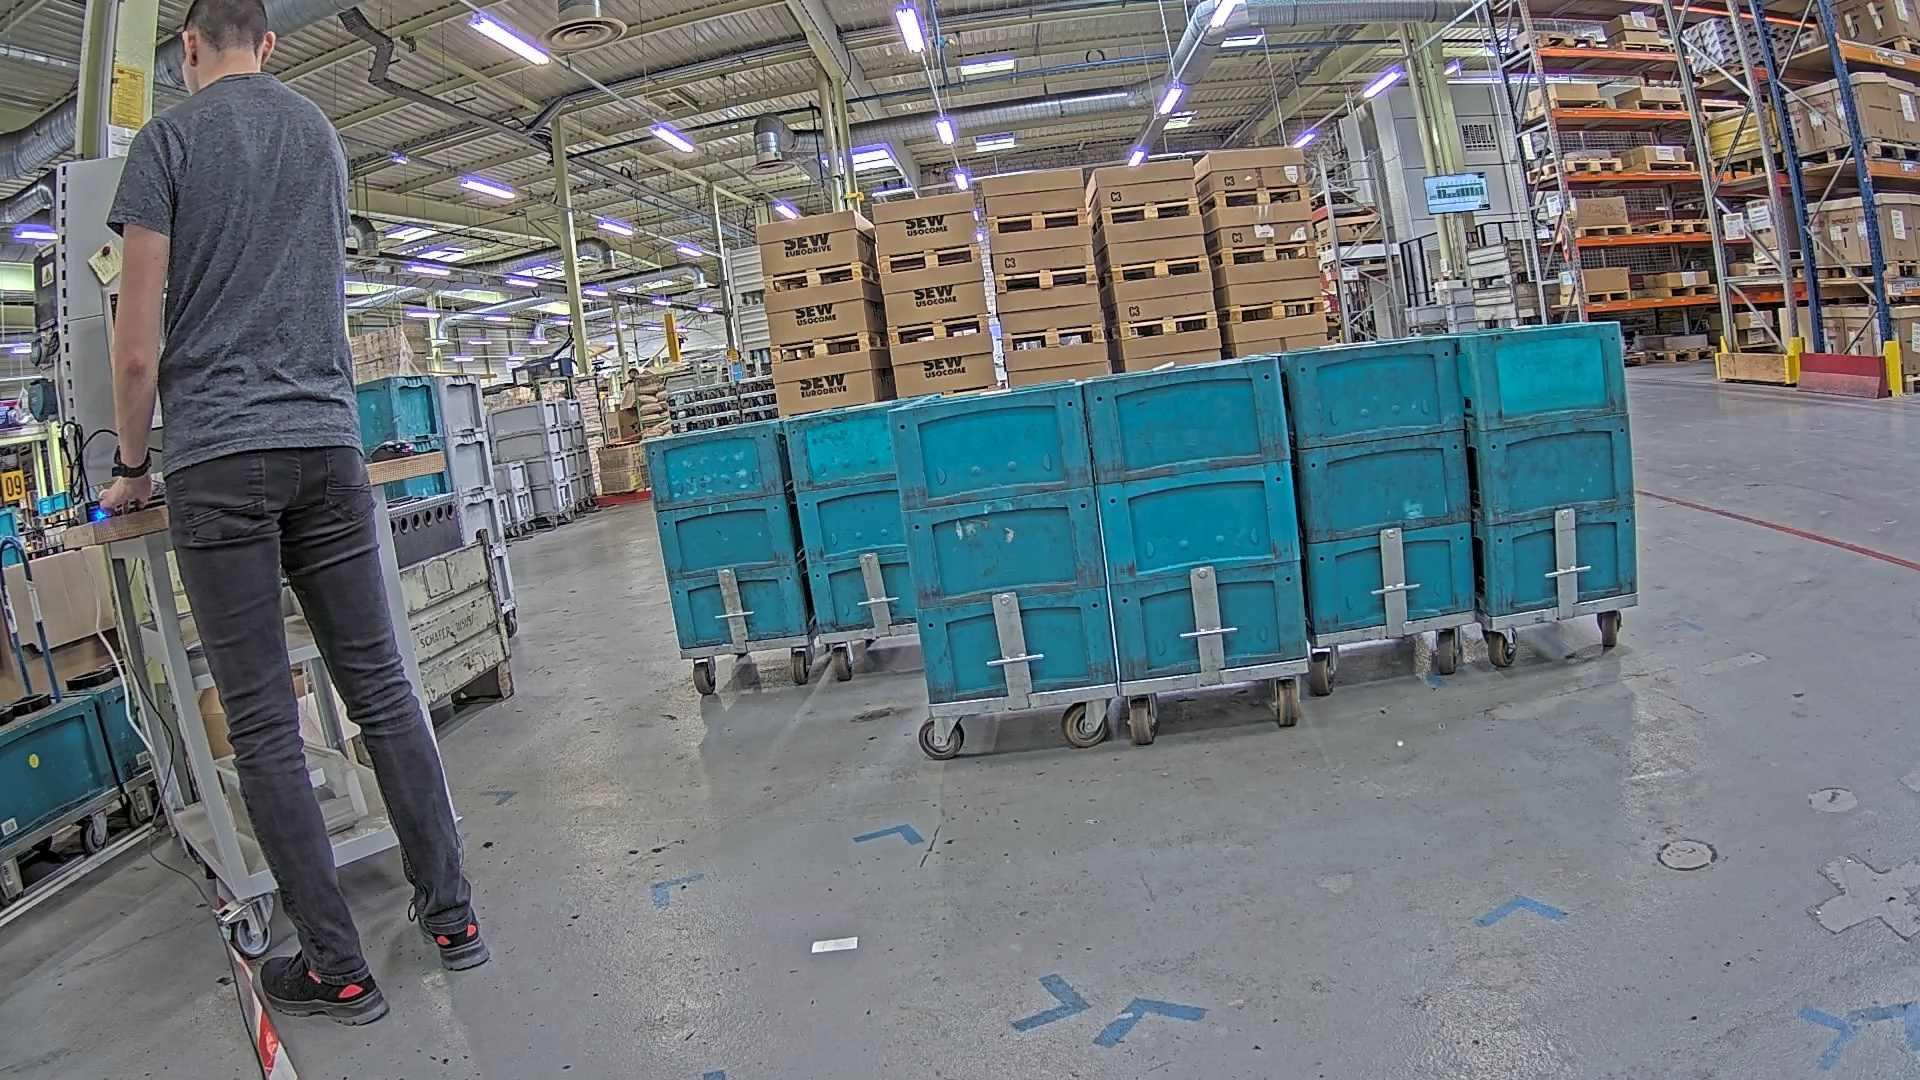B8: (885, 382, 1121, 704), (1080, 356, 1311, 684), (1284, 334, 1477, 638), (1468, 319, 1643, 618), (641, 419, 811, 651), (779, 404, 922, 634)
